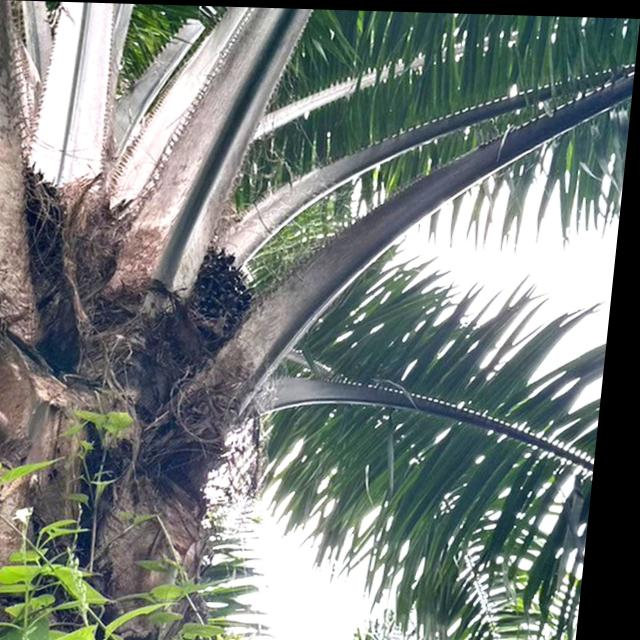unripe: (177, 241, 275, 354)
